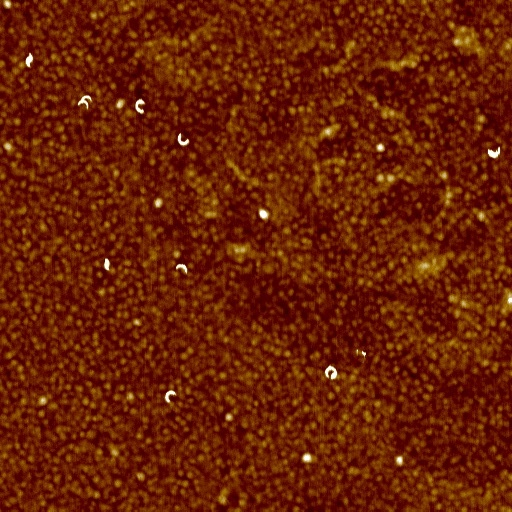-1: (101, 256, 113, 275), (256, 207, 270, 220), (24, 54, 35, 67), (395, 456, 406, 469), (302, 452, 313, 462)
2/4: (133, 97, 148, 117), (164, 388, 180, 406), (174, 131, 193, 145), (172, 263, 190, 276), (486, 146, 503, 159), (74, 101, 91, 113), (77, 92, 95, 101)
3/4: (323, 364, 341, 380)
